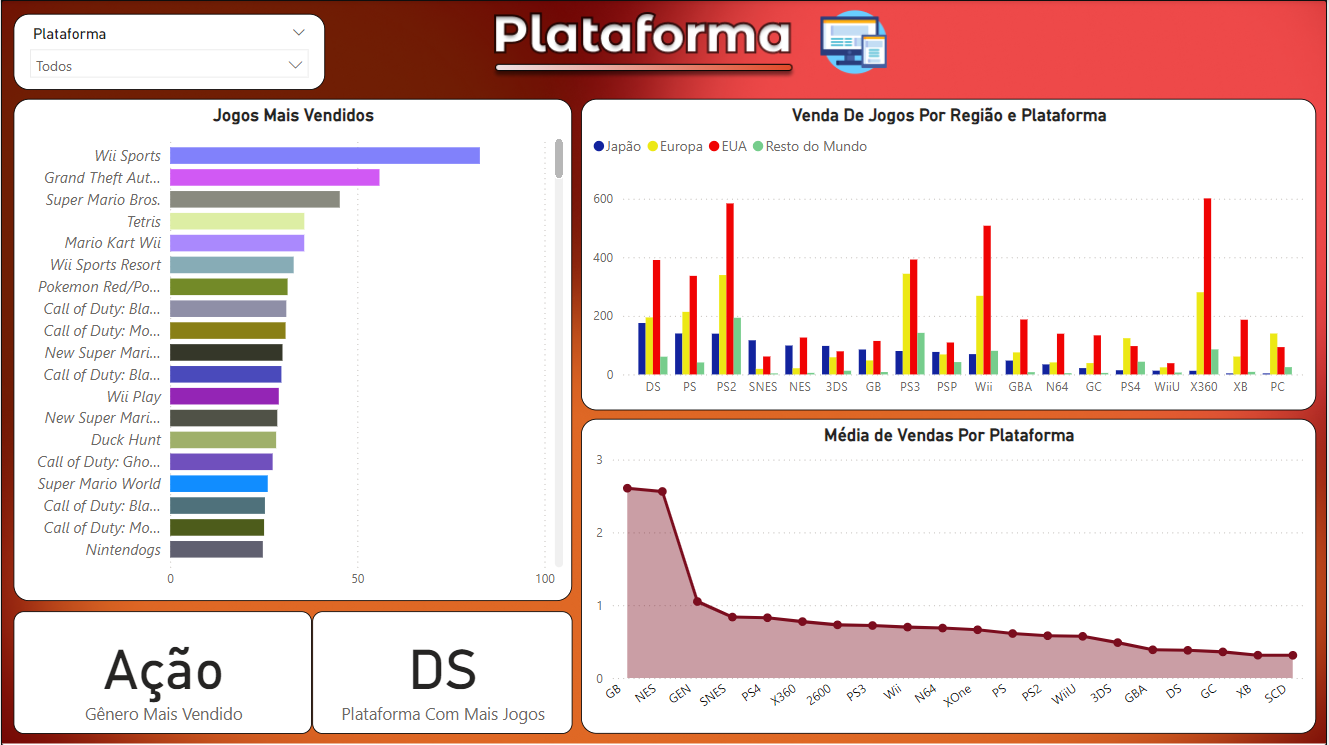

What the dashboard file says about the page in this screenshot:
{"tool":"powerbi","page":{"name":"Por Plataforma","canvas":[1280,720],"ordinal":2},"visuals":[{"type":"barChart","title":"Jogos Mais Vendidos","fields":{"Y":["Sum(games-Final.Vendas_Totais)"],"Category":["games-Final.Titulo"],"Series":["games-Final.Titulo"]},"box":[19.3,92.9,535.7,605.6],"z":0},{"type":"areaChart","title":"Média de Vendas Por Plataforma","fields":{"Category":["games-Final.Plataforma"],"Y":["Avg(games-Final.Vendas_Totais)"]},"box":[587.5,417.4,673.2,281.1],"z":1000},{"type":"lineClusteredColumnComboChart","title":"Vendas De Jogos Por Região, Por Plataforma","fields":{"Category":["games-Final.Plataforma"],"Y":["Sum(games-Final.Vendas_JP)","Sum(games-Final.Vendas_Europa)","Sum(games-Final.Vendas_EUA)","Sum(games-Final.Outras_Vendas)"]},"box":[587.5,97.7,673.2,295.6],"z":2000}]}

Visuals, with their boxes in screenshot pixels (x1, y1, x2, y2), scaled from the page's 1280x720 canvas onto the 1329x745 screenshot:
"Jogos Mais Vendidos" barChart: [left=20, top=96, right=576, bottom=723]
"Média de Vendas Por Plataforma" areaChart: [left=610, top=432, right=1309, bottom=723]
"Vendas De Jogos Por Região, Por Plataforma" lineClusteredColumnComboChart: [left=610, top=101, right=1309, bottom=407]
